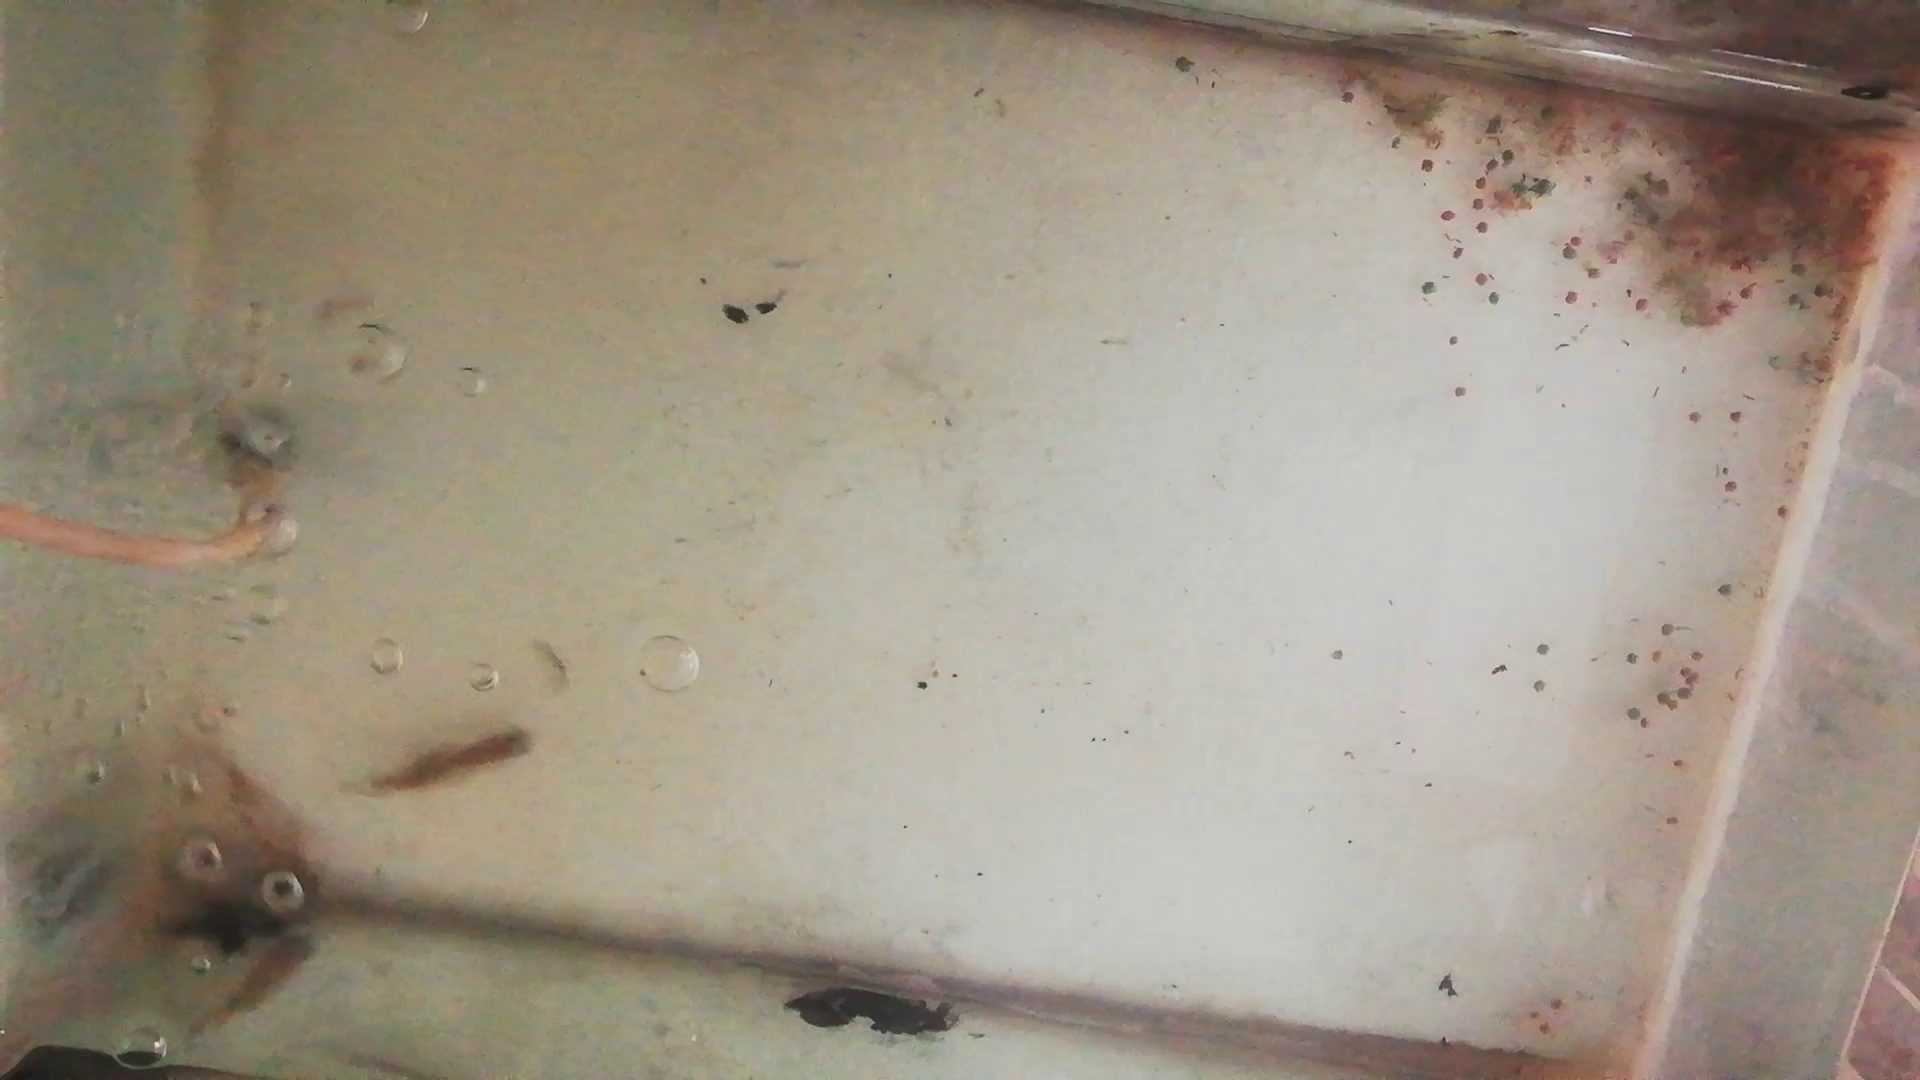fish: (183, 721, 332, 891), (351, 728, 538, 798)
